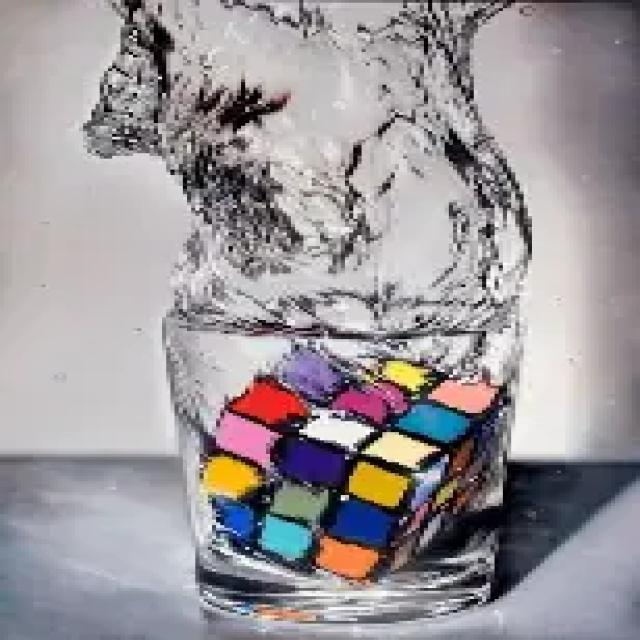Rubiks Cube: (199, 348, 506, 586)
